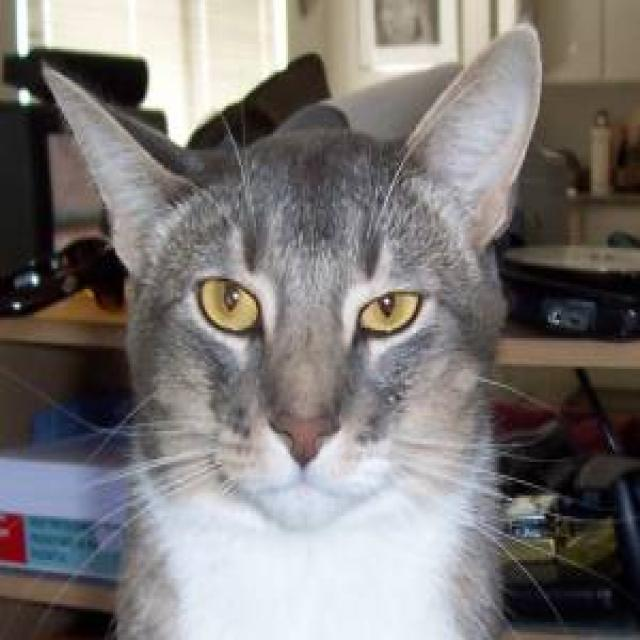Abyssinian: (42, 20, 544, 531)
